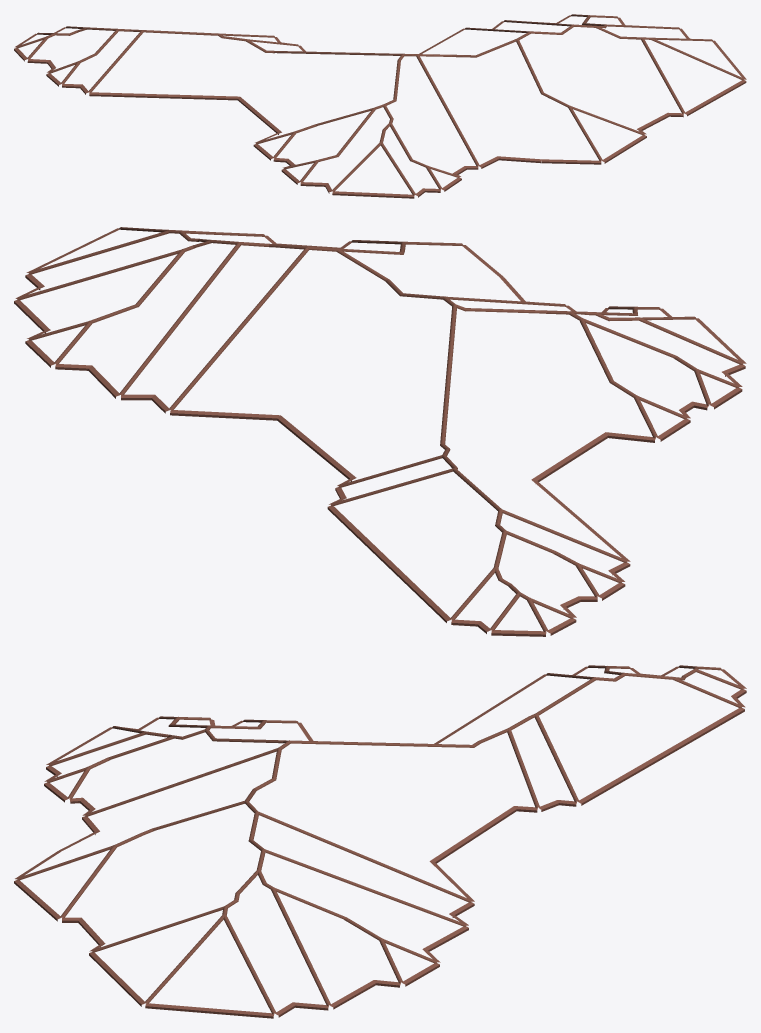
The picture shows the model from 3 angles, top to bottom: view 1: azimuth 30°, elevation 25°; view 2: azimuth 150°, elevation 25°; view 3: azimuth 270°, elevation 25°; orthographic projection. The views are drawn at different scales.
Visible parts, largest first — view 1: detail; view 2: detail; view 3: detail.
Part boxes in pixels (box(x1,y1,x2,y2)): detail: box(14, 14, 746, 198); detail: box(14, 227, 746, 636); detail: box(14, 665, 746, 1018).
Size of the model in its own units: 52.83 by 5.94 by 46.64.
